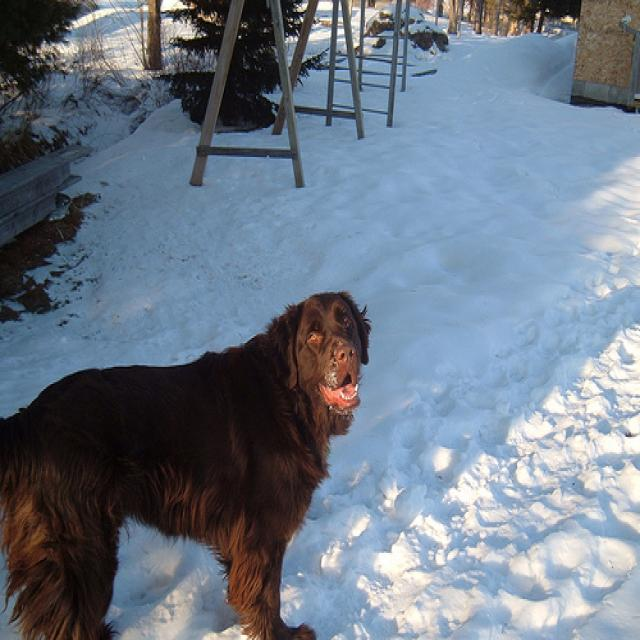dog-newfoundland: (1, 273, 384, 637)
